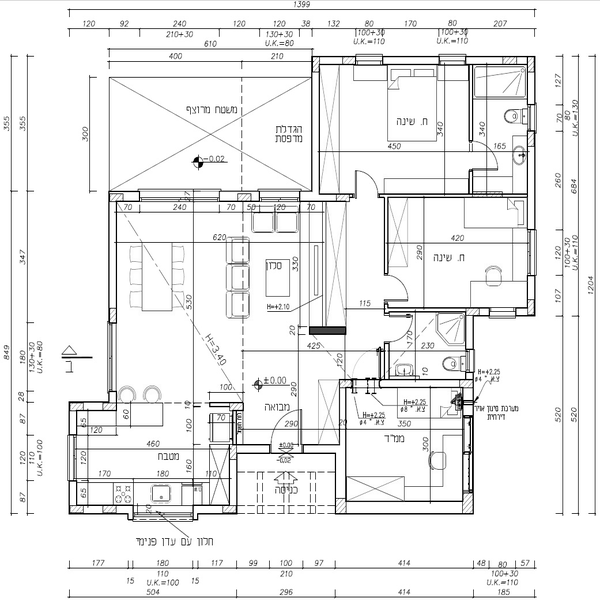door: (264, 401, 307, 456), (467, 134, 508, 179), (386, 309, 424, 347), (378, 270, 417, 304), (349, 169, 381, 197)
room: (97, 178, 353, 339), (305, 41, 541, 199), (369, 191, 538, 326), (336, 374, 474, 526), (66, 396, 237, 516)
wall: (309, 51, 334, 202), (100, 191, 127, 323), (329, 497, 485, 516), (336, 373, 353, 526), (522, 129, 544, 230), (60, 394, 131, 418), (60, 501, 134, 520), (105, 324, 122, 394), (380, 51, 439, 70), (467, 55, 537, 71), (226, 447, 245, 504), (195, 499, 240, 518), (464, 304, 482, 346), (520, 277, 537, 318), (65, 480, 82, 513), (300, 441, 338, 454)
window: (133, 185, 223, 206), (137, 504, 193, 524), (256, 184, 303, 207), (64, 434, 86, 483), (521, 234, 542, 278)
